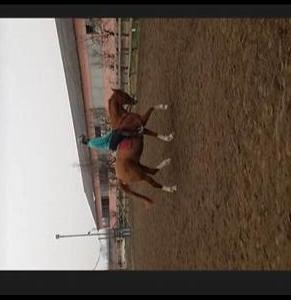horse: (106, 88, 177, 206)
